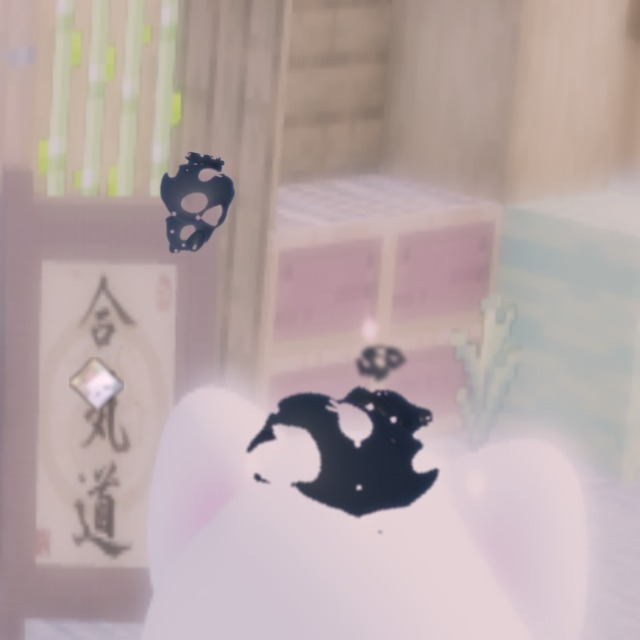urso_branco: (69, 357, 124, 411)
urso_preto: (206, 335, 489, 566), (140, 146, 244, 270), (352, 335, 414, 390)
